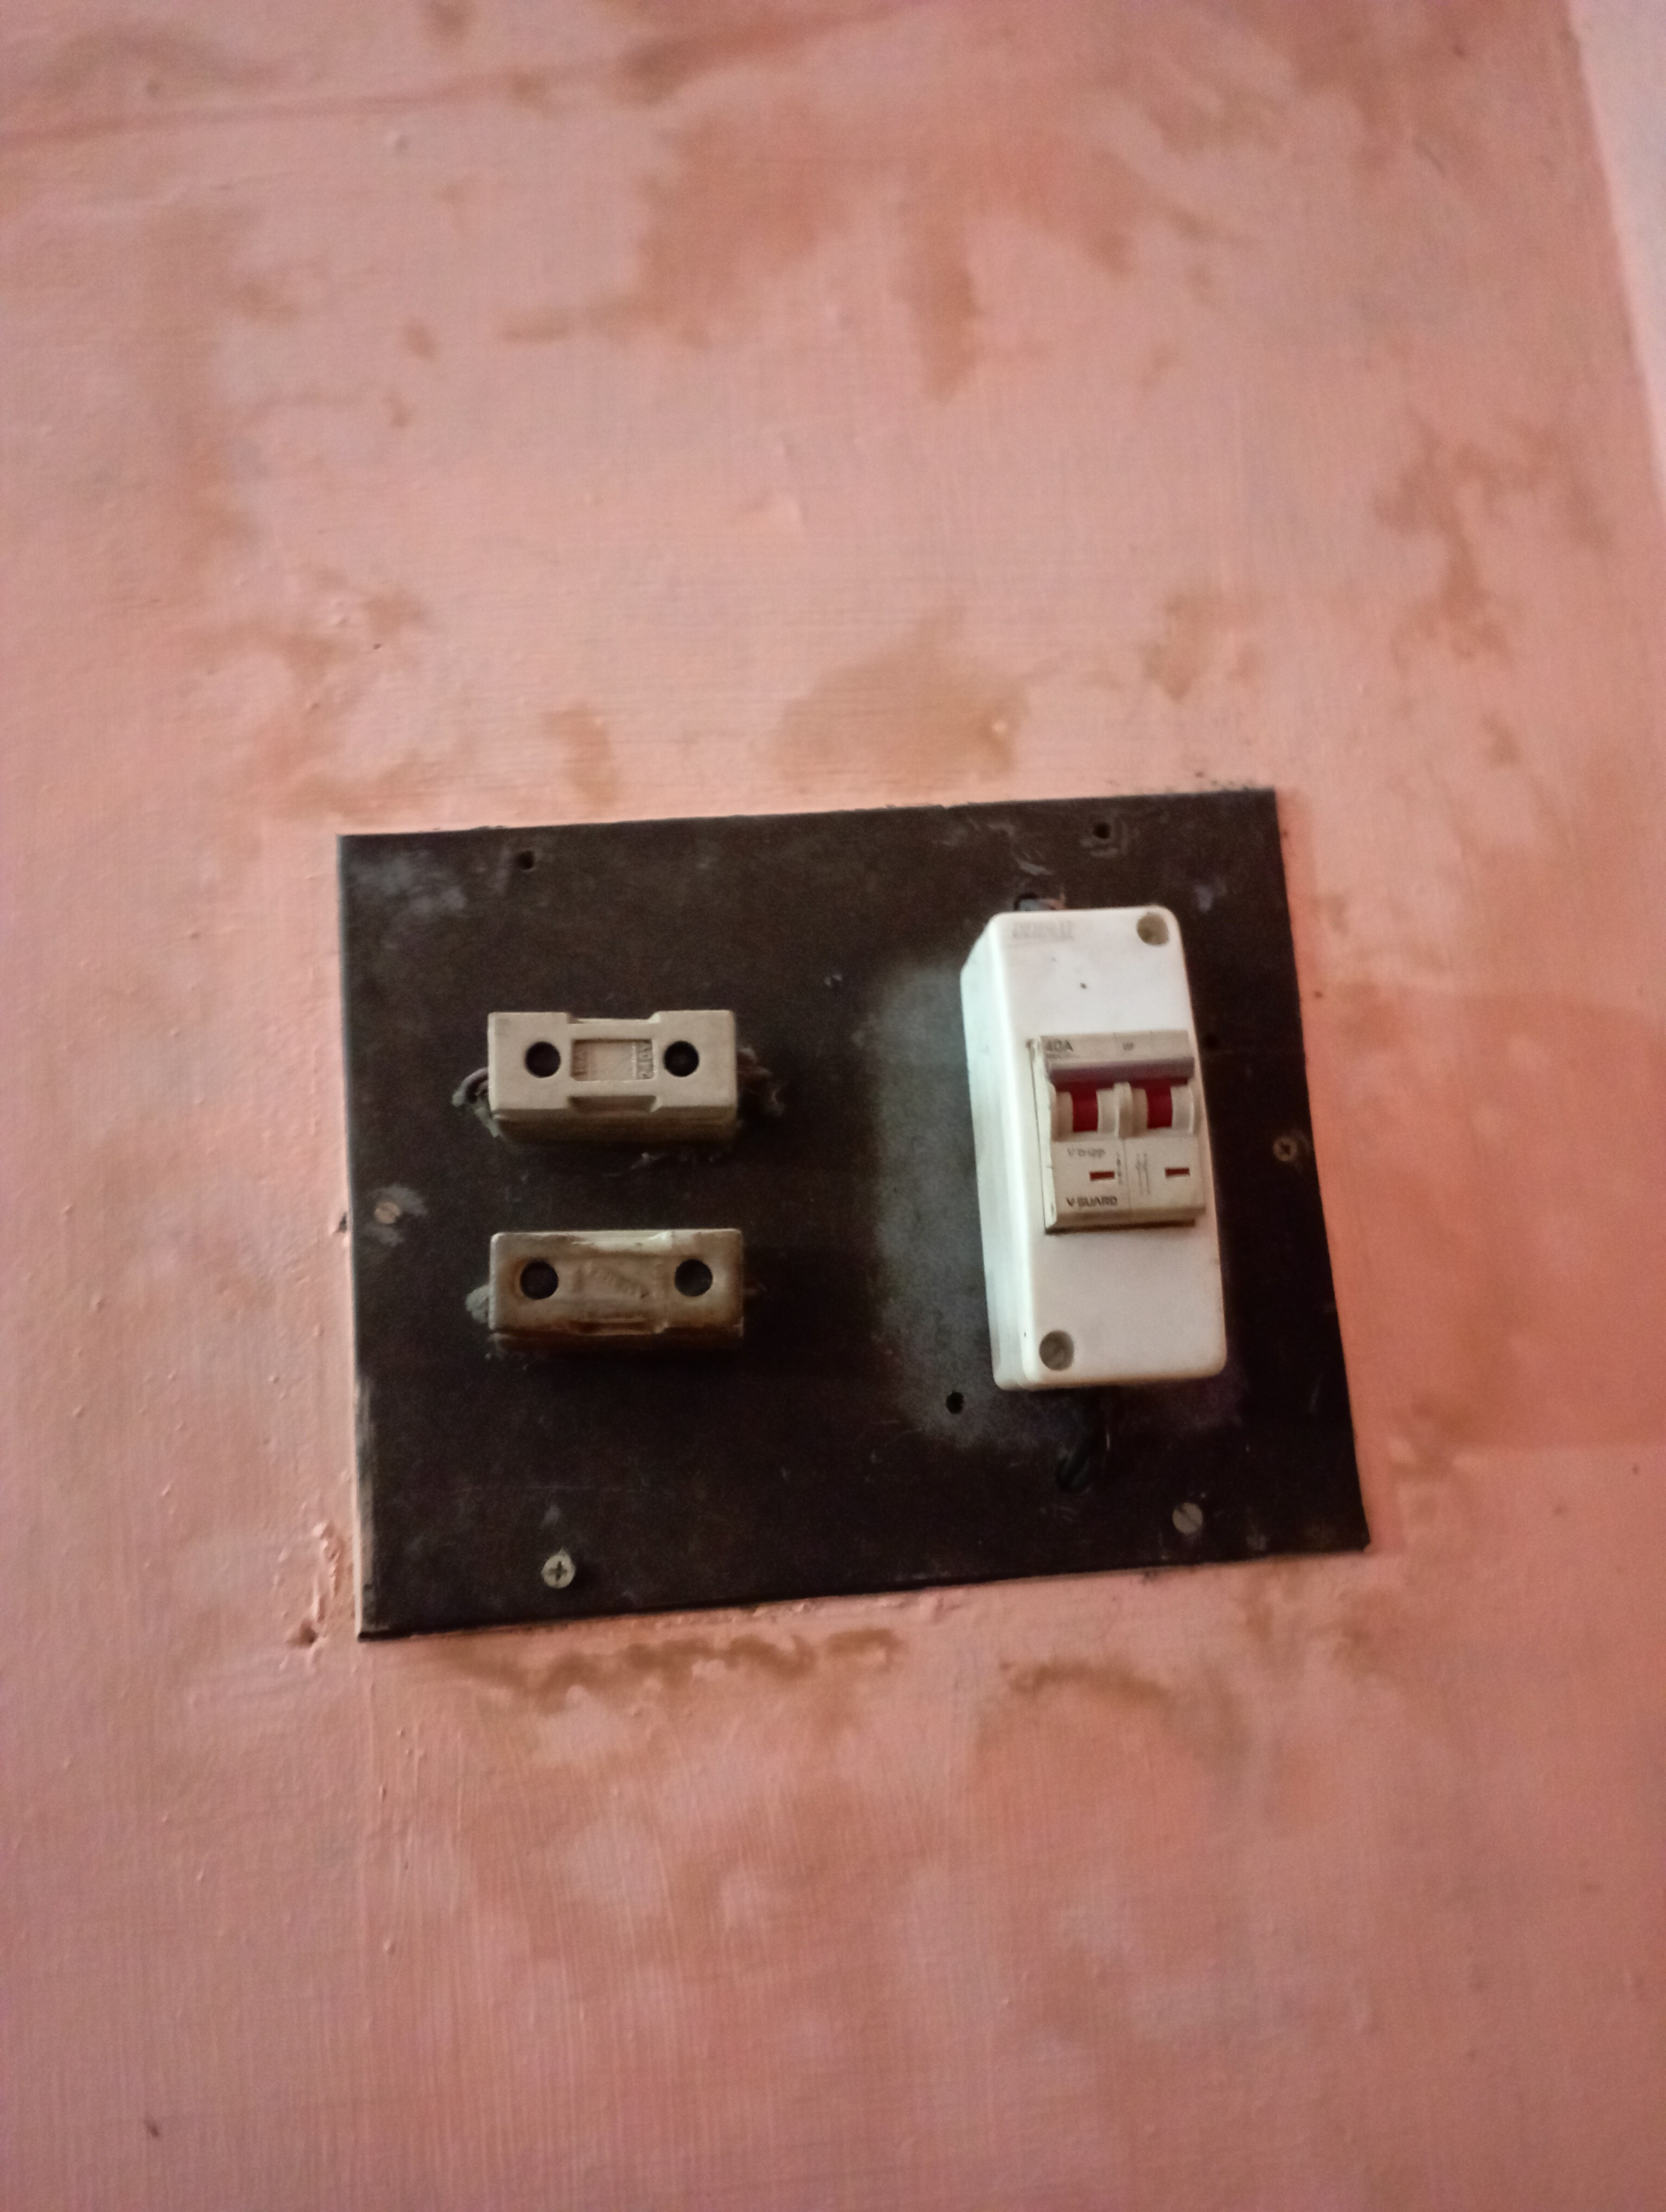ciruit_breaker: (935, 881, 1251, 1409)
fuse: (462, 1005, 754, 1145), (462, 1215, 758, 1348)
